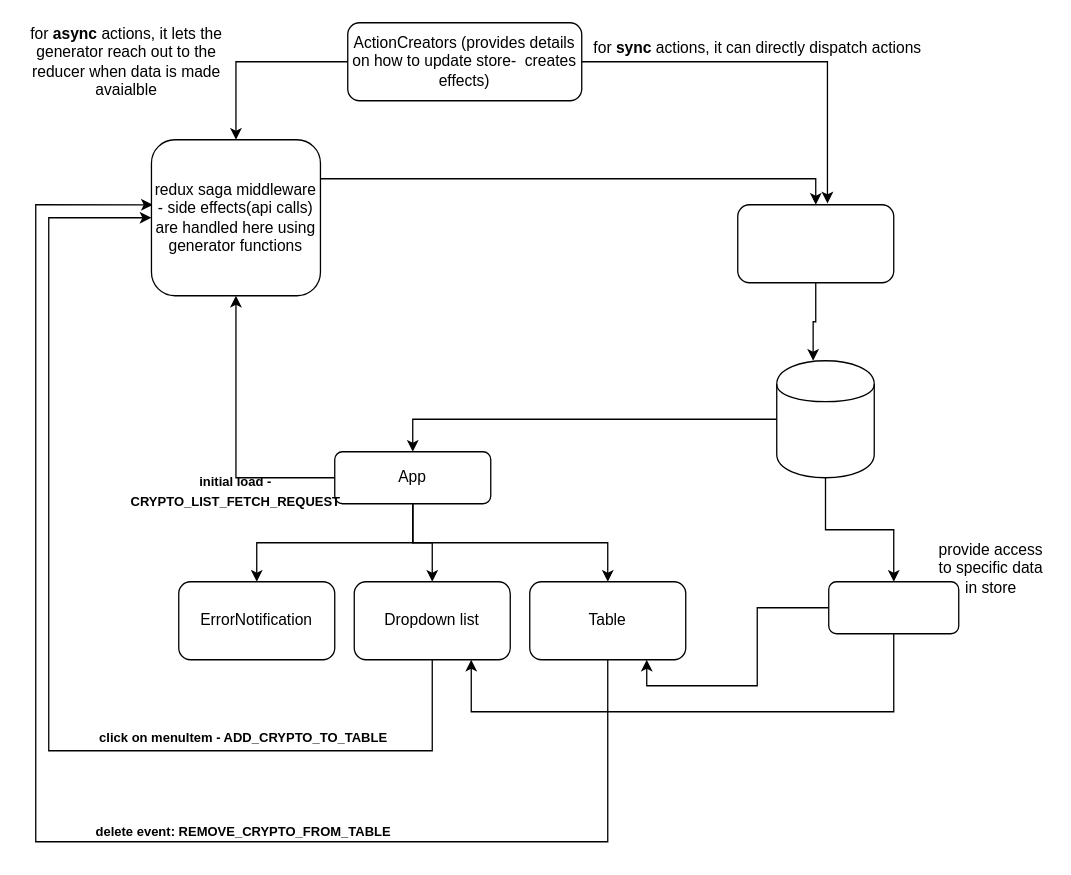
This 1071x875 diagram has some shape labels left out. The box of each missing label's shape, as (x1, y1, x2, y2) in pixels:
Reducers (logic to update store cotenet): (736, 203, 894, 283)
Redux Store: (775, 359, 874, 478)
Selectors: (827, 580, 959, 634)
